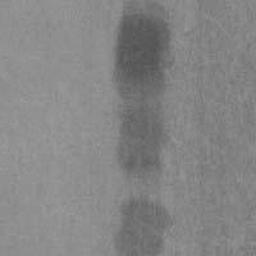Oil spot: (110, 0, 180, 256)
